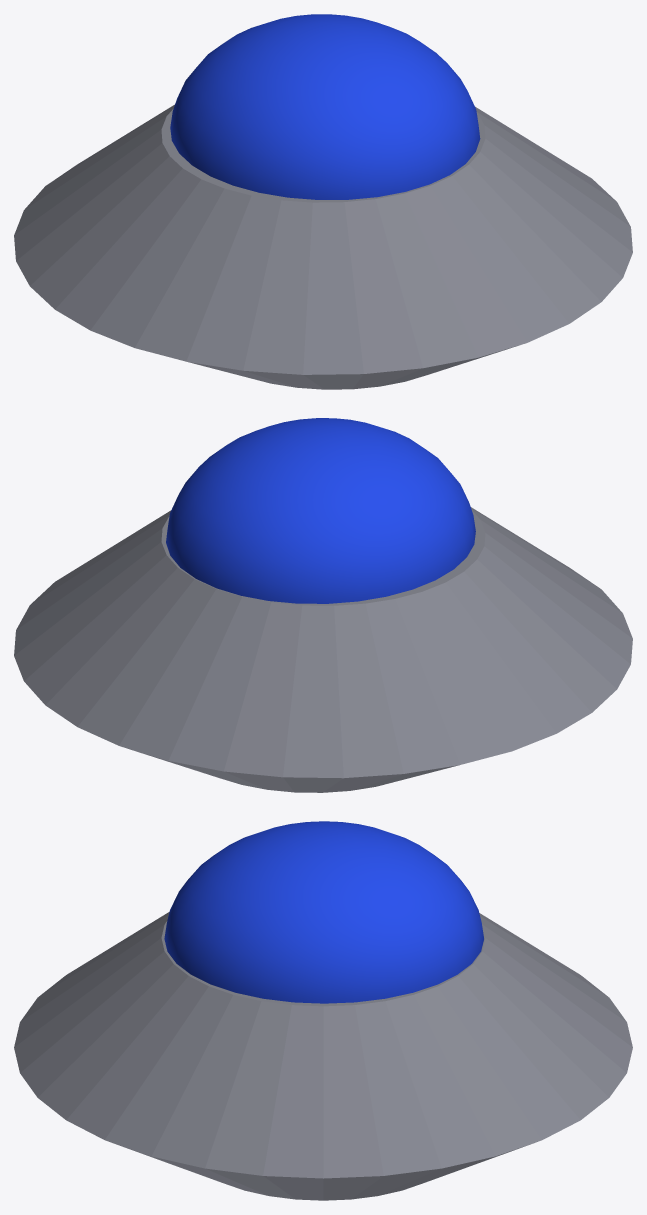
The model's file is Nave.fbx.
The picture shows the model from 3 angles, top to bottom: view 1: azimuth 30°, elevation 25°; view 2: azimuth 150°, elevation 25°; view 3: azimuth 270°, elevation 25°; orthographic projection.
Parts seen in each view (by area): view 1: Sphere.003; view 2: Sphere.003; view 3: Sphere.003.
Part boxes in pixels (x1,y1,x2,y2): Sphere.003: (14,14,632,389); Sphere.003: (14,418,632,792); Sphere.003: (14,821,632,1200).
Bounding box in the file's own units: 245 × 138 × 245.
